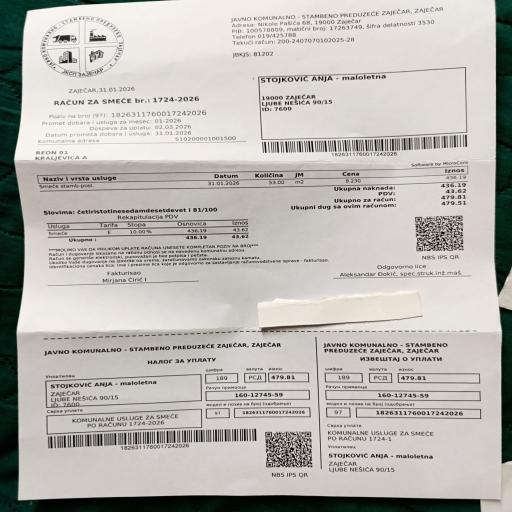racun_za_smece: (37, 163, 475, 209)
